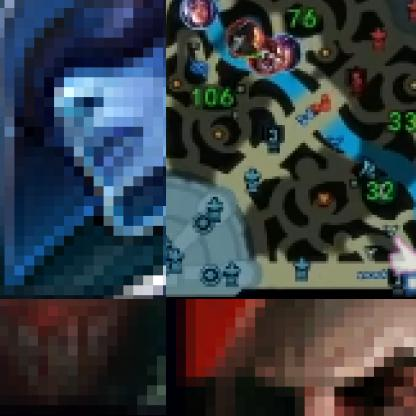Gangplank: (227, 18, 266, 58)
Irelia: (180, 0, 219, 31)
Kled: (252, 40, 286, 75)
Lissandra: (0, 0, 165, 298)
Pyke: (0, 299, 165, 415)
Swain: (166, 299, 415, 415)
Syndra: (266, 32, 302, 70)
